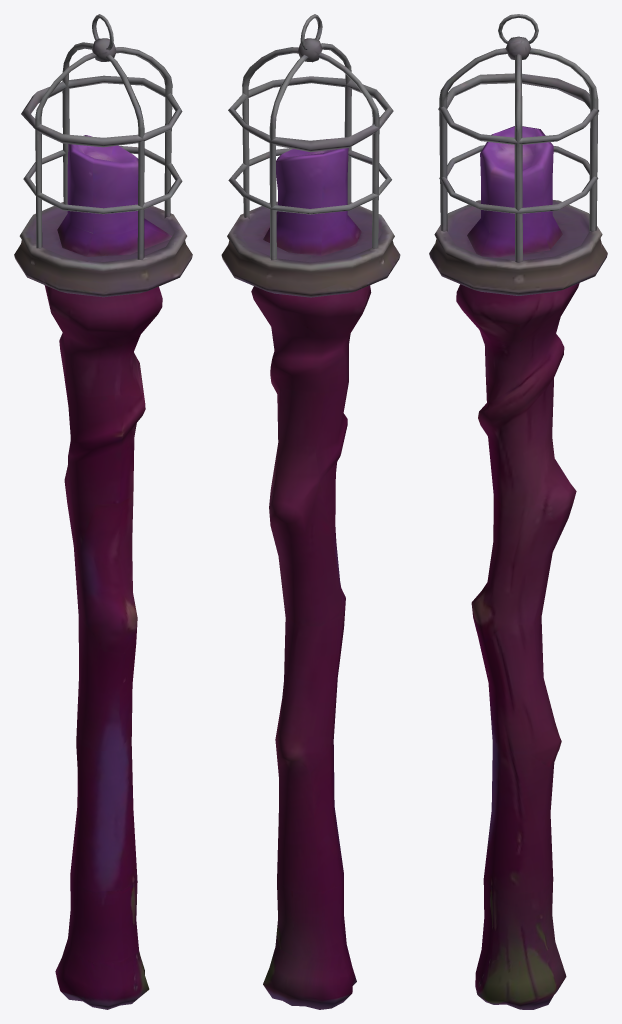
Rendered from duskwick_staff.glb.
3 renders of one model, left to right at view 1: azimuth 30°, elevation 25°; view 2: azimuth 150°, elevation 25°; view 3: azimuth 270°, elevation 25°, orthographic.
Visible parts, largest first — view 1: tripo_node_3088afb3-ad6a-4f1f-97f4-a32f1855c428; view 2: tripo_node_3088afb3-ad6a-4f1f-97f4-a32f1855c428; view 3: tripo_node_3088afb3-ad6a-4f1f-97f4-a32f1855c428.
Boxes of the visible parts, x1=… form: tripo_node_3088afb3-ad6a-4f1f-97f4-a32f1855c428: x1=14, y1=14, x2=192, y2=1009; tripo_node_3088afb3-ad6a-4f1f-97f4-a32f1855c428: x1=221, y1=14, x2=400, y2=1009; tripo_node_3088afb3-ad6a-4f1f-97f4-a32f1855c428: x1=429, y1=14, x2=607, y2=1009.
Size of the model in its own units: 0.3754 by 2.28 by 0.3754.
1 material, 1 textured.
